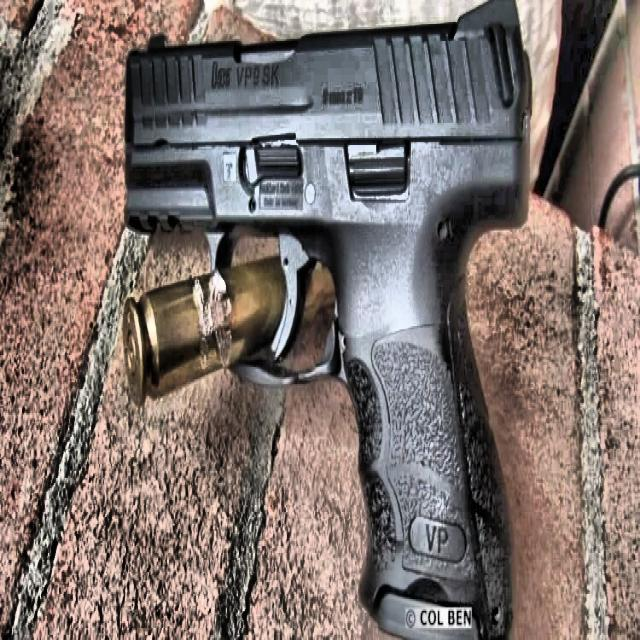HKVP9: (121, 1, 534, 636)
